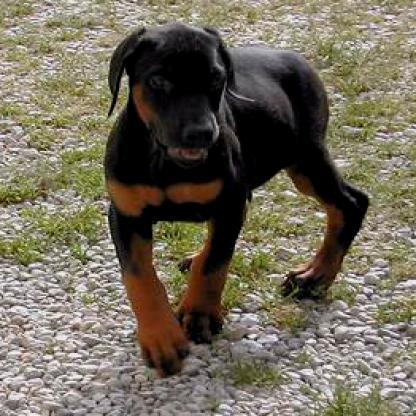dog: (105, 24, 370, 376)
